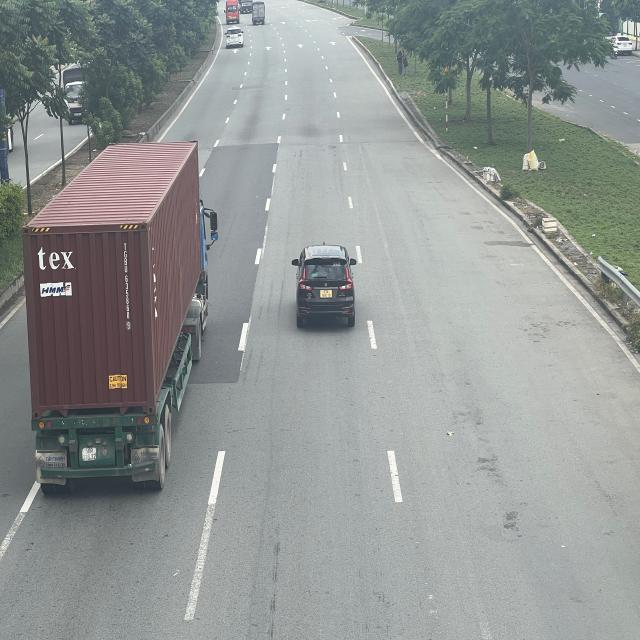car: (292, 246, 357, 326), (223, 25, 244, 49)
coach: (223, 0, 241, 23)
container: (21, 140, 218, 486)
truck: (250, 3, 267, 28)
